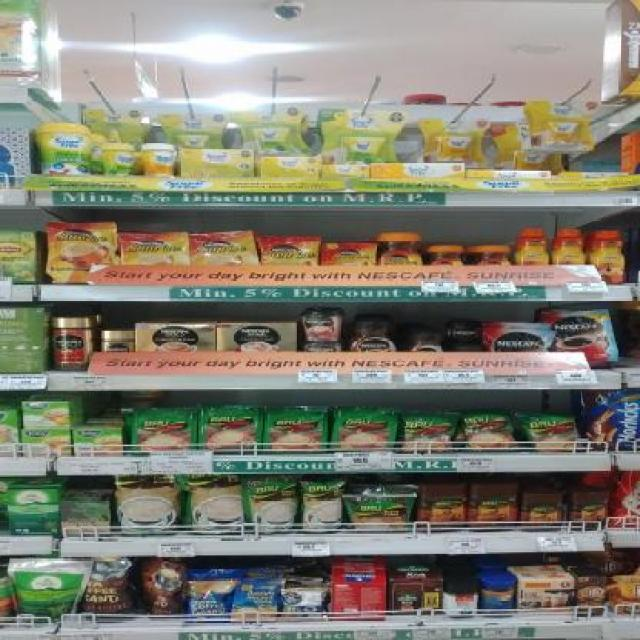Coffee: (49, 223, 116, 282), (548, 312, 615, 363), (122, 234, 190, 266), (194, 233, 255, 264), (259, 238, 318, 265), (594, 230, 624, 282), (554, 228, 584, 266), (519, 229, 549, 265), (444, 320, 482, 343)
